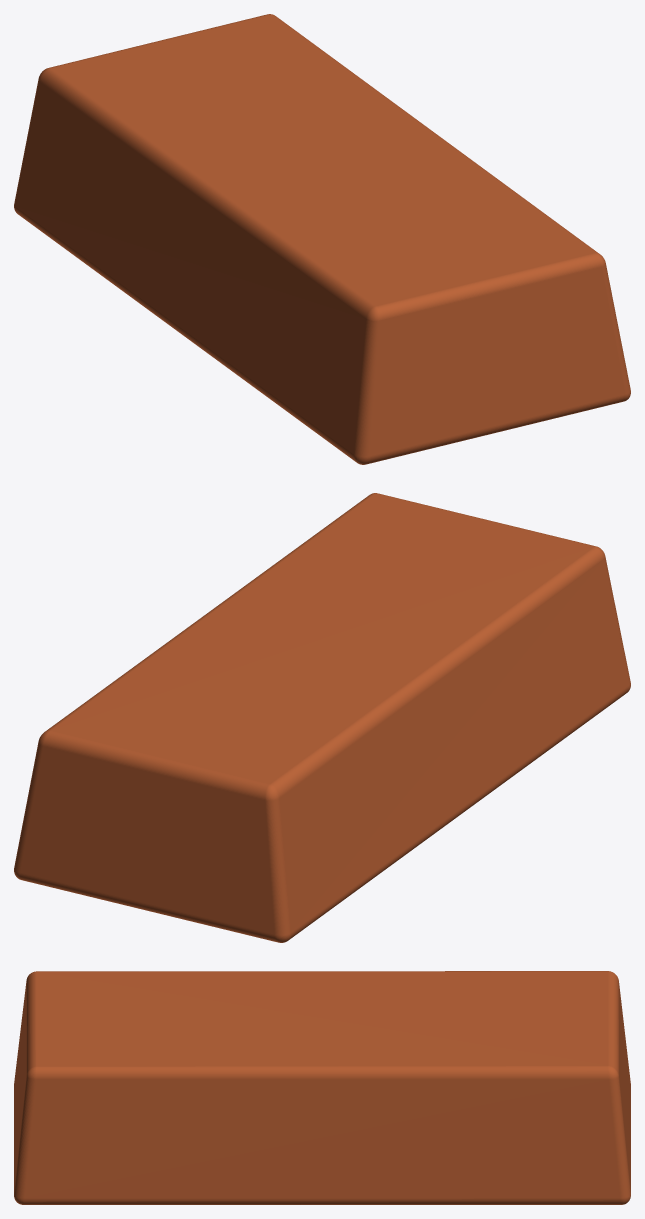
File: grithe_bar.glb
The picture shows the model from 3 angles, top to bottom: view 1: azimuth 30°, elevation 25°; view 2: azimuth 150°, elevation 25°; view 3: azimuth 270°, elevation 25°; orthographic projection. The views are drawn at different scales.
Visible parts, largest first — view 1: grithe_bar cast metal; view 2: grithe_bar cast metal; view 3: grithe_bar cast metal.
Boxes of the visible parts, left/top/right/bottom form: grithe_bar cast metal: left=14, top=14, right=630, bottom=464; grithe_bar cast metal: left=14, top=493, right=630, bottom=942; grithe_bar cast metal: left=14, top=971, right=630, bottom=1204.
Bounding box in the file's own units: 0.1425 × 0.0732 × 0.314.
